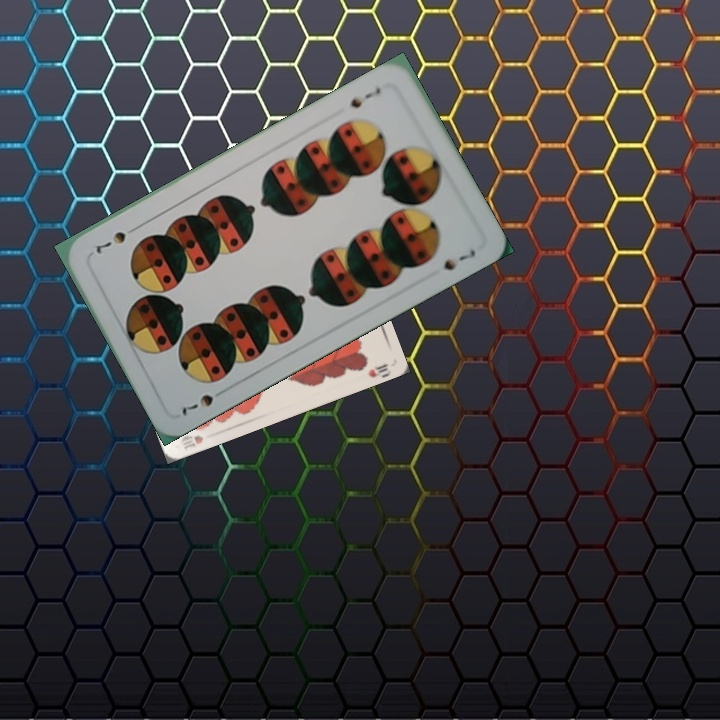H10: (177, 431, 206, 453)
S7: (177, 383, 230, 419), (346, 83, 384, 111)
